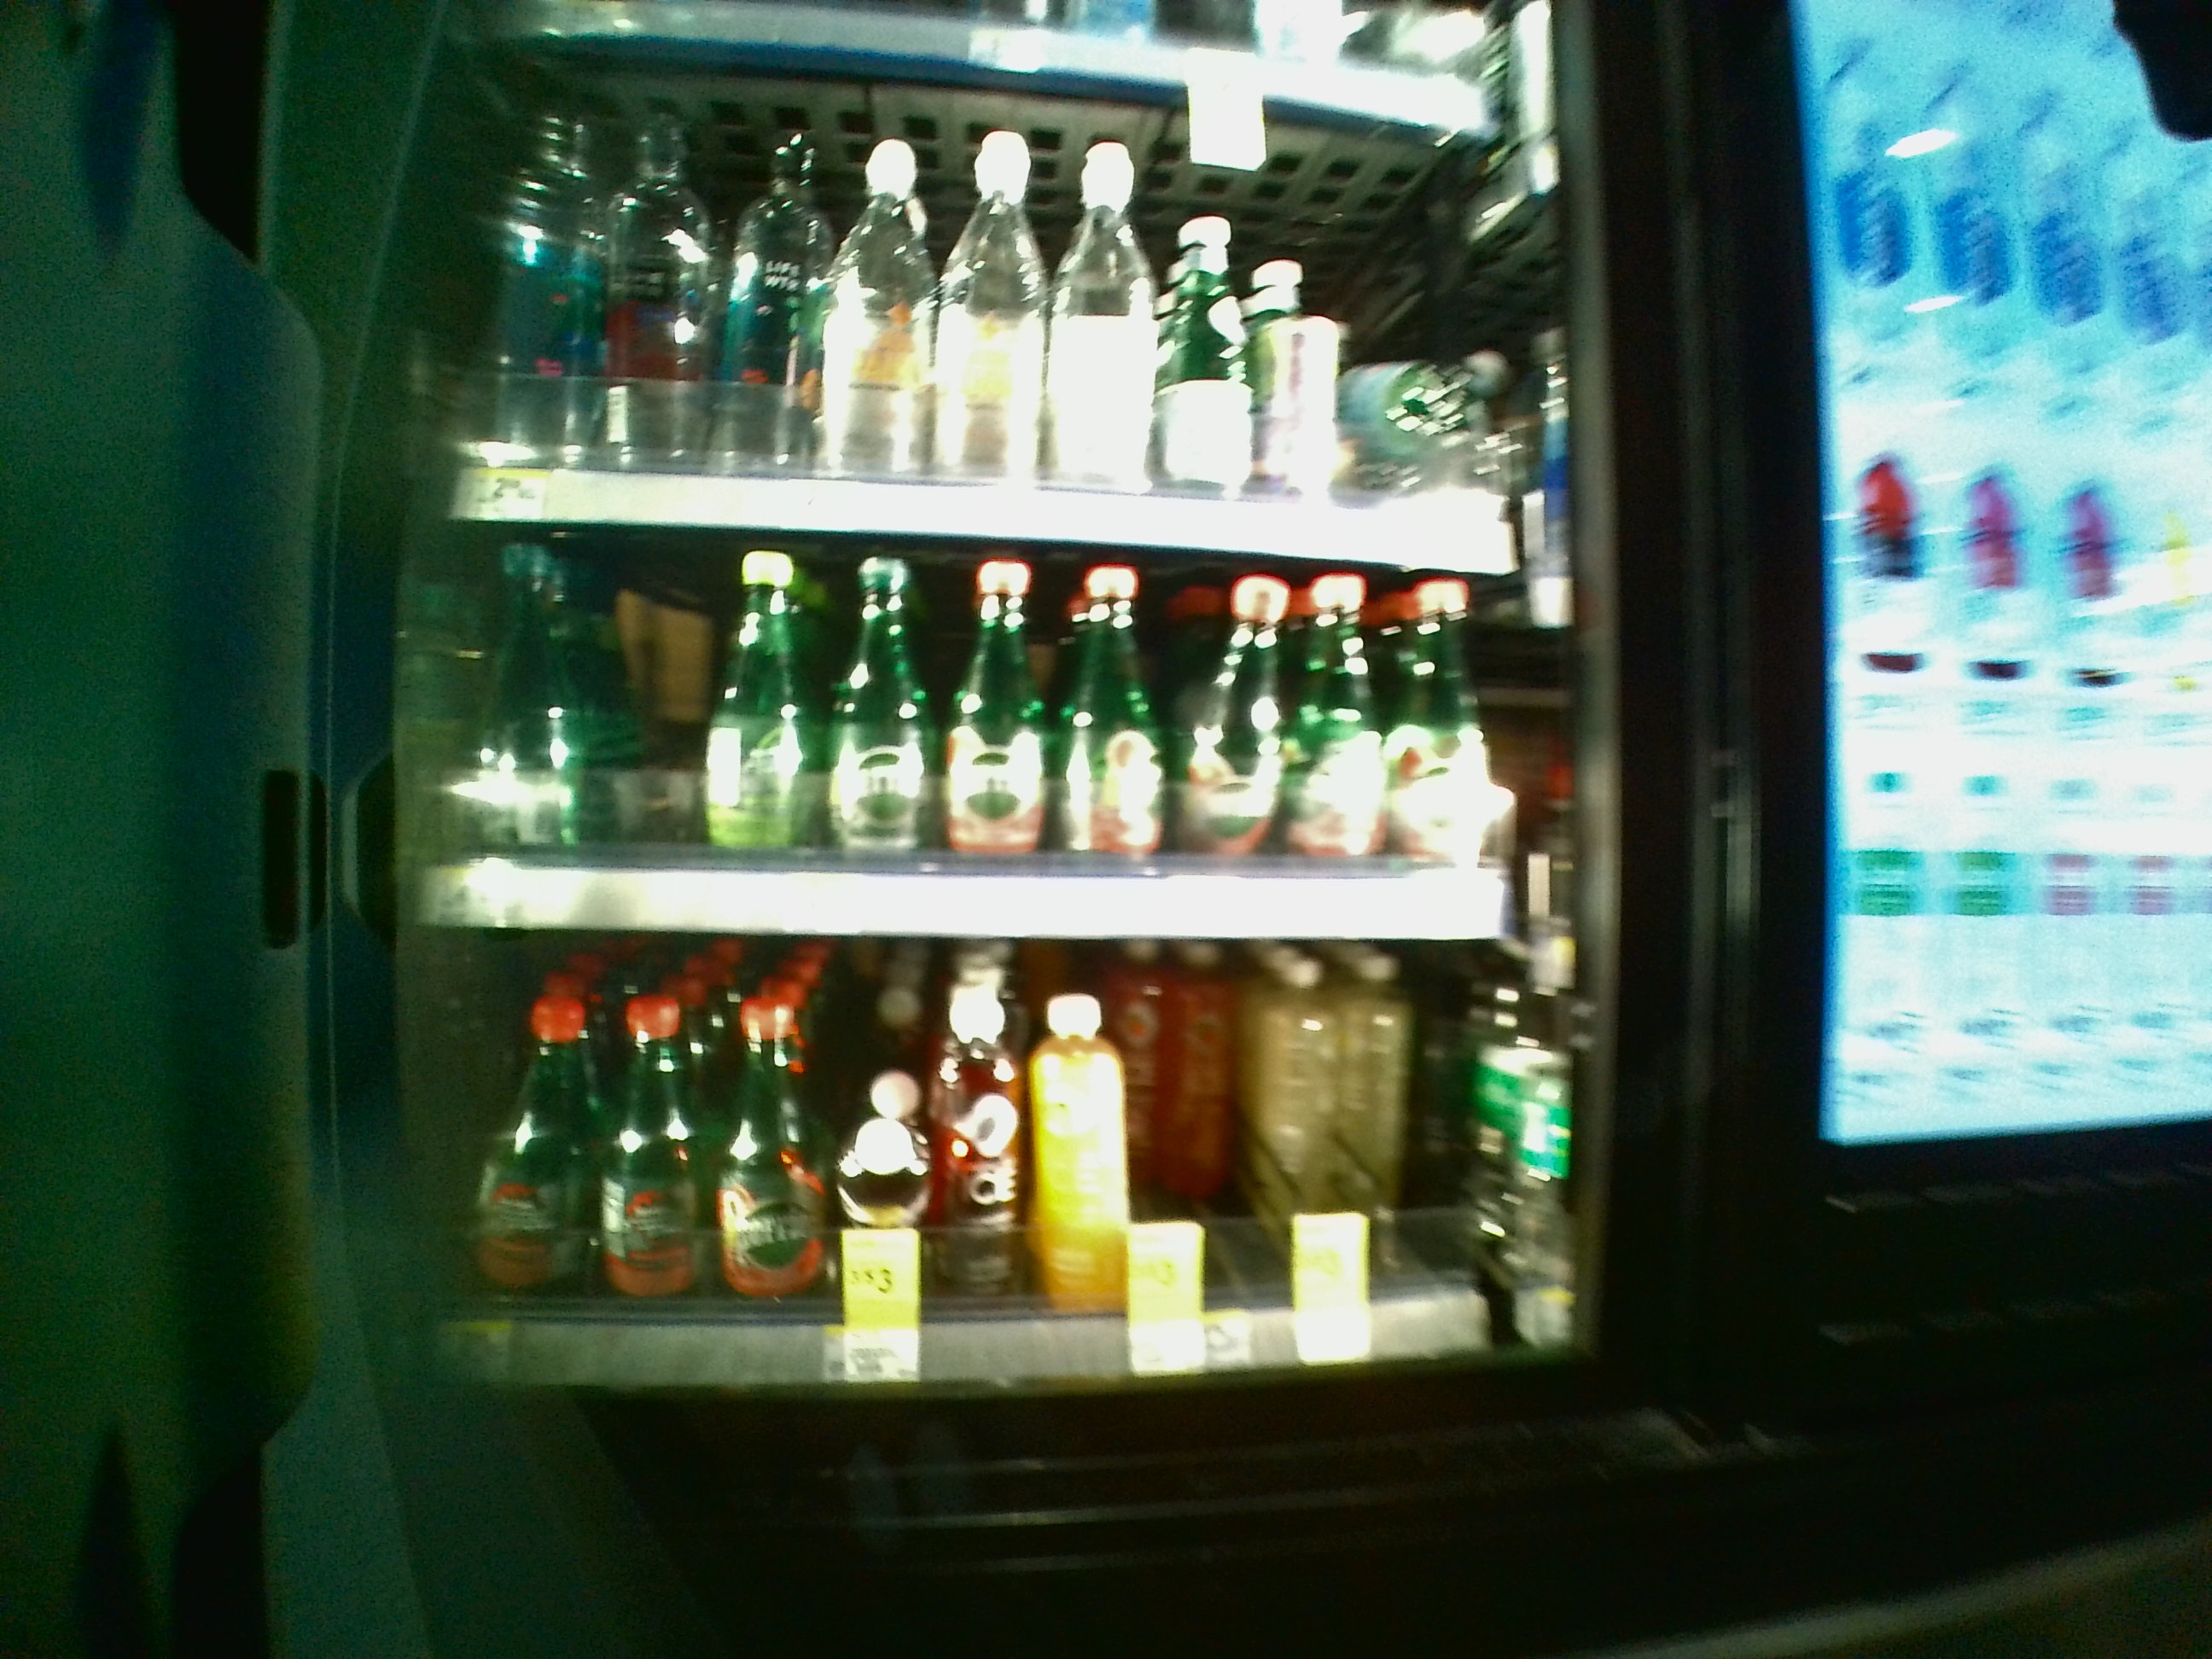shelf: (395, 938, 1583, 1406), (394, 528, 1564, 939)
